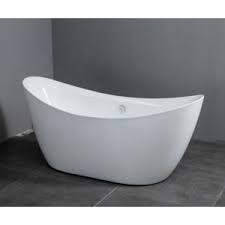bathub: (19, 72, 209, 188)
